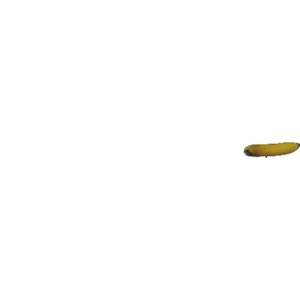banana: (241, 133, 300, 159)
